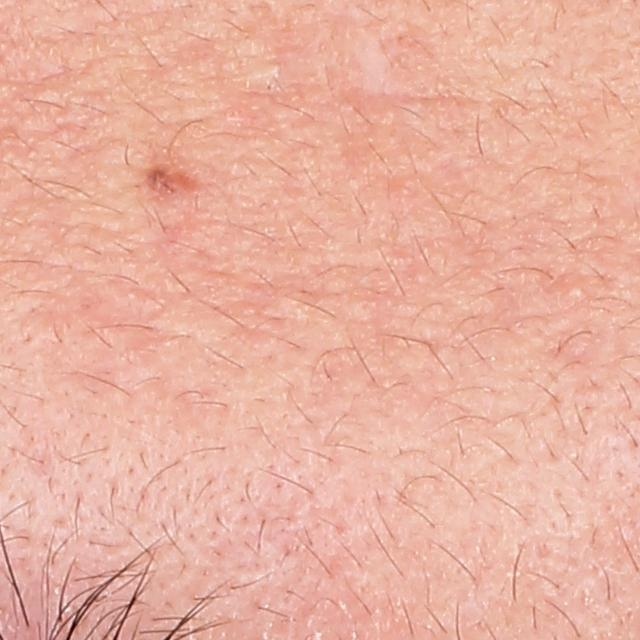comedo: (550, 268, 600, 312)
nevus: (142, 161, 203, 209)
